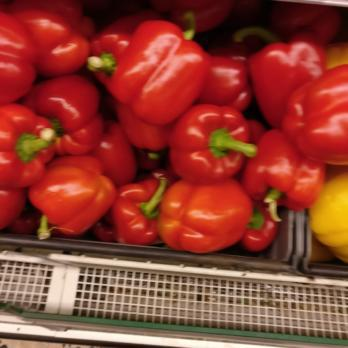Capsicum: (0, 1, 348, 244)
